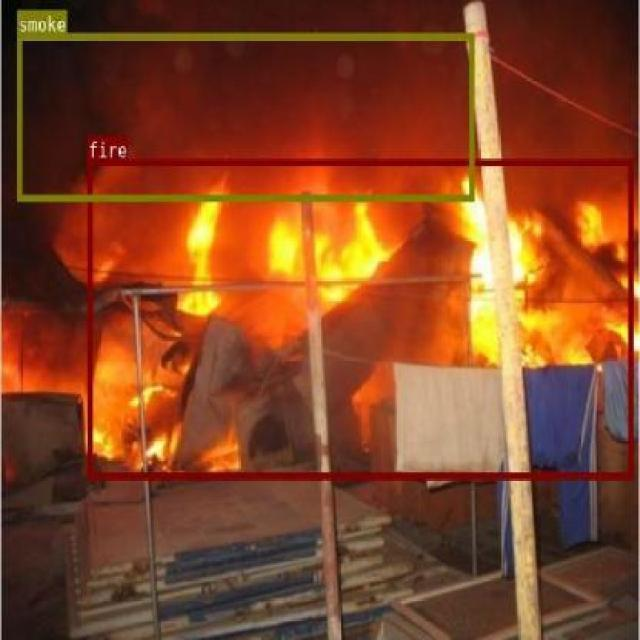Fire: (0, 185, 625, 373), (17, 365, 375, 457)
Smoke: (0, 0, 620, 197)
